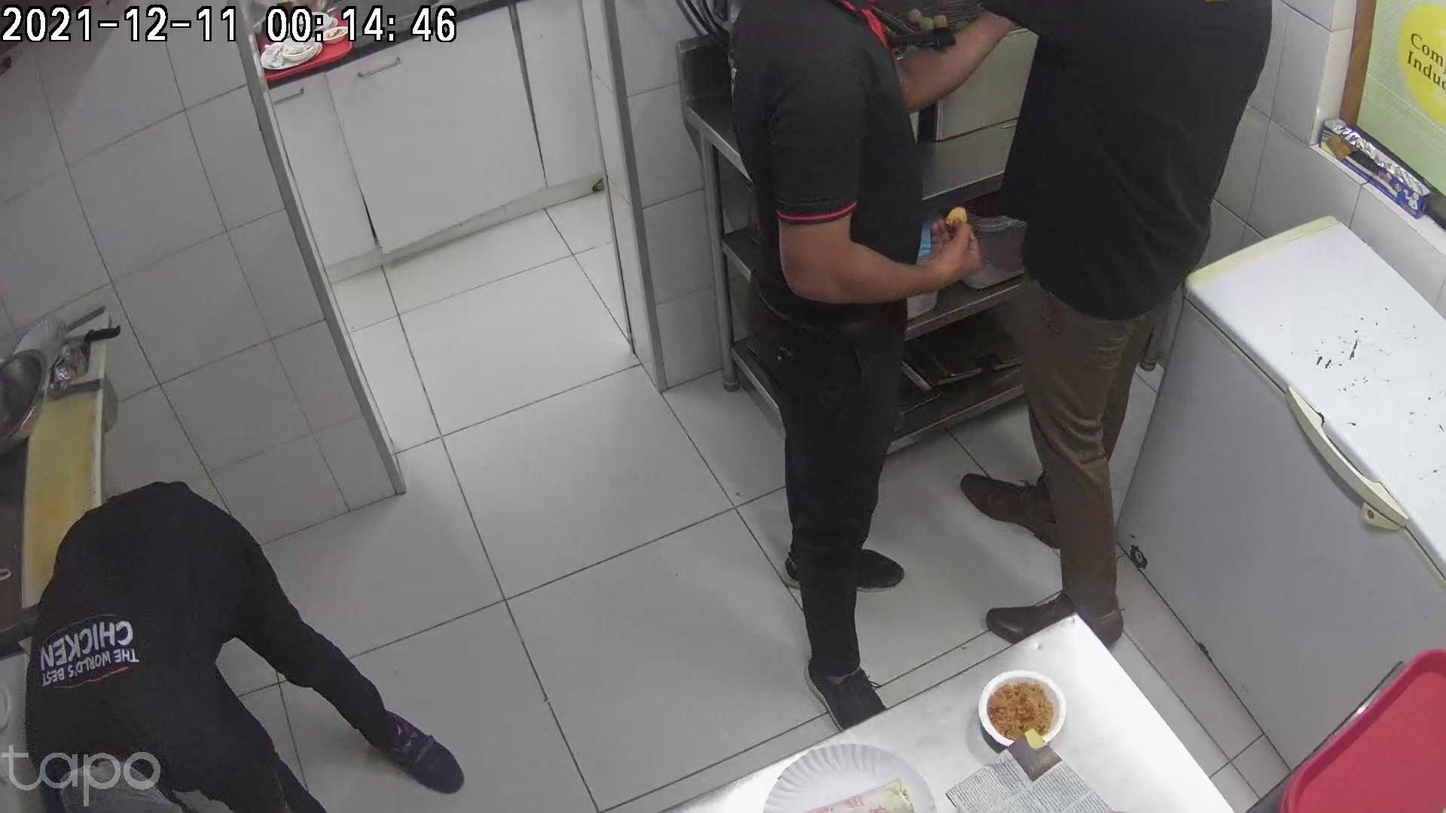no_gloves: (297, 601, 459, 762)
